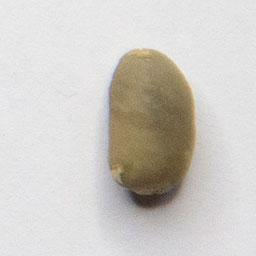peaberry: (103, 42, 199, 200)
